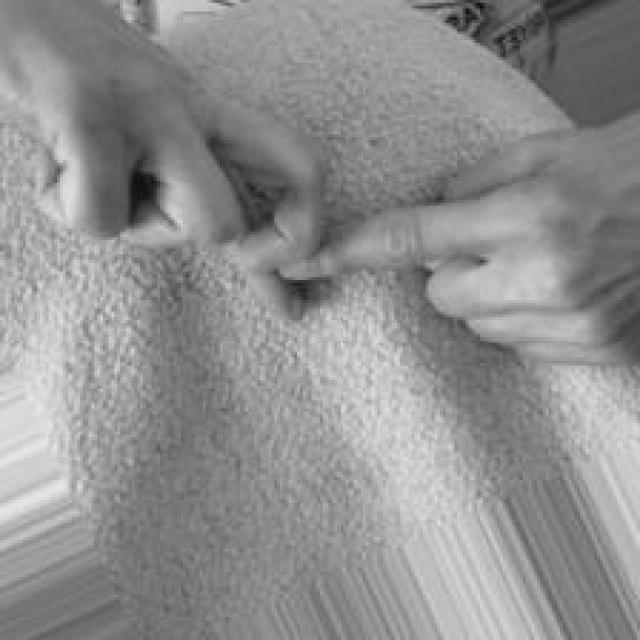R: (1, 0, 640, 371)
